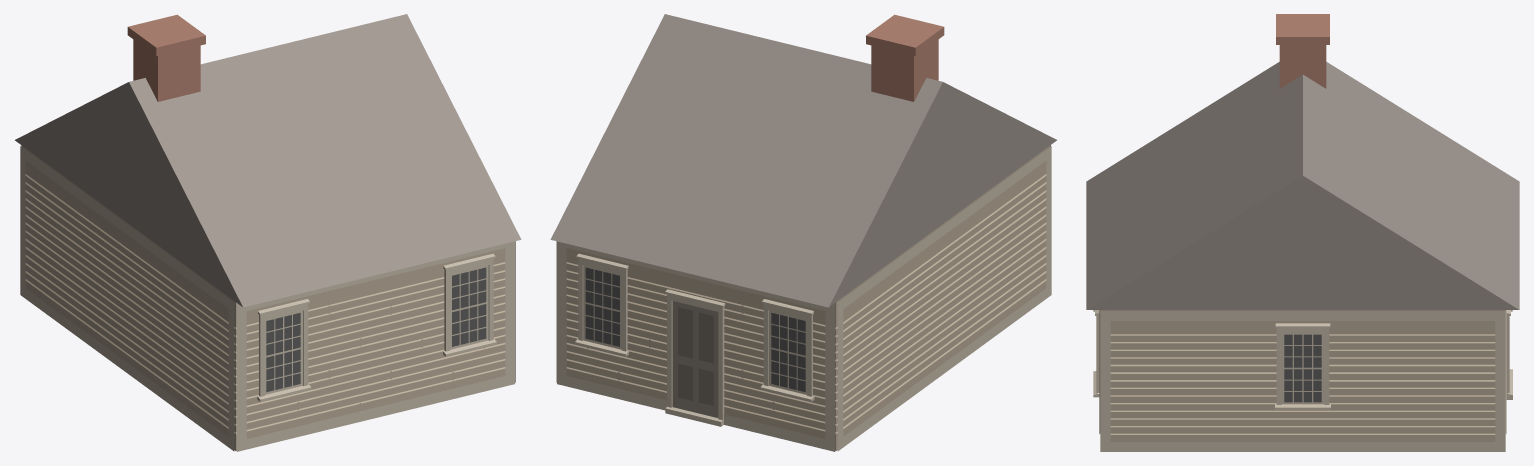
Rendered from inf_mason_dwelling_north__inferred_1835.glb.
3 views of the same model, side by side, from view 1: azimuth 30°, elevation 25°; view 2: azimuth 150°, elevation 25°; view 3: azimuth 270°, elevation 25° (orthographic). The views are drawn at different scales.
Parts seen in each view (by area): view 1: inf_mason_dwelling_north__inferred_1835; view 2: inf_mason_dwelling_north__inferred_1835; view 3: inf_mason_dwelling_north__inferred_1835.
Boxes of the visible parts, bbox=[...] form: inf_mason_dwelling_north__inferred_1835: bbox=[15, 14, 521, 451]; inf_mason_dwelling_north__inferred_1835: bbox=[550, 14, 1056, 451]; inf_mason_dwelling_north__inferred_1835: bbox=[1086, 14, 1519, 451].
Bounding box in the file's own units: 5.64 × 6.26 × 7.82.
